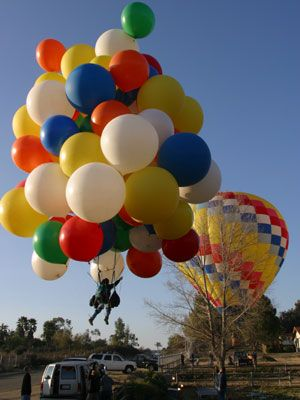Balloon: (66, 162, 124, 223), (100, 114, 158, 167), (125, 167, 179, 223), (159, 134, 211, 185), (65, 64, 116, 113), (59, 218, 102, 263), (109, 50, 148, 91), (33, 221, 67, 262), (11, 137, 51, 171), (121, 2, 155, 38), (40, 116, 73, 153), (90, 250, 123, 283), (126, 250, 162, 278), (36, 40, 64, 71)
